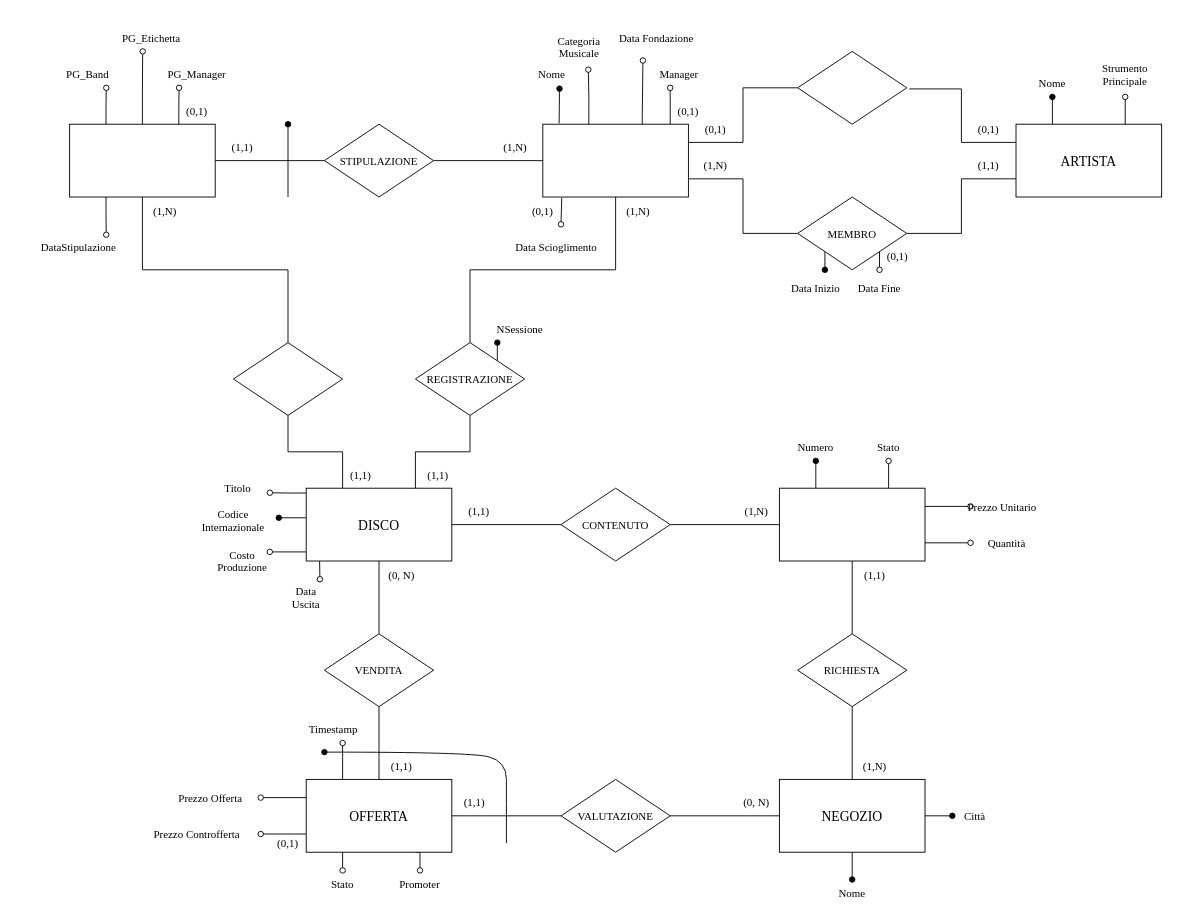
Image size: 1177x922. Some labels were removed from this diagram. Here are the shapes that lost their labels. From the top down, the box of each, then its label:
(797, 51, 907, 124): RAPPRESENTANTE PRINCIPALE
(69, 123, 215, 197): CONTRATTO
(542, 123, 688, 197): BAND
(233, 342, 343, 415): PRODUZIONE
(779, 487, 925, 561): ORDINE
